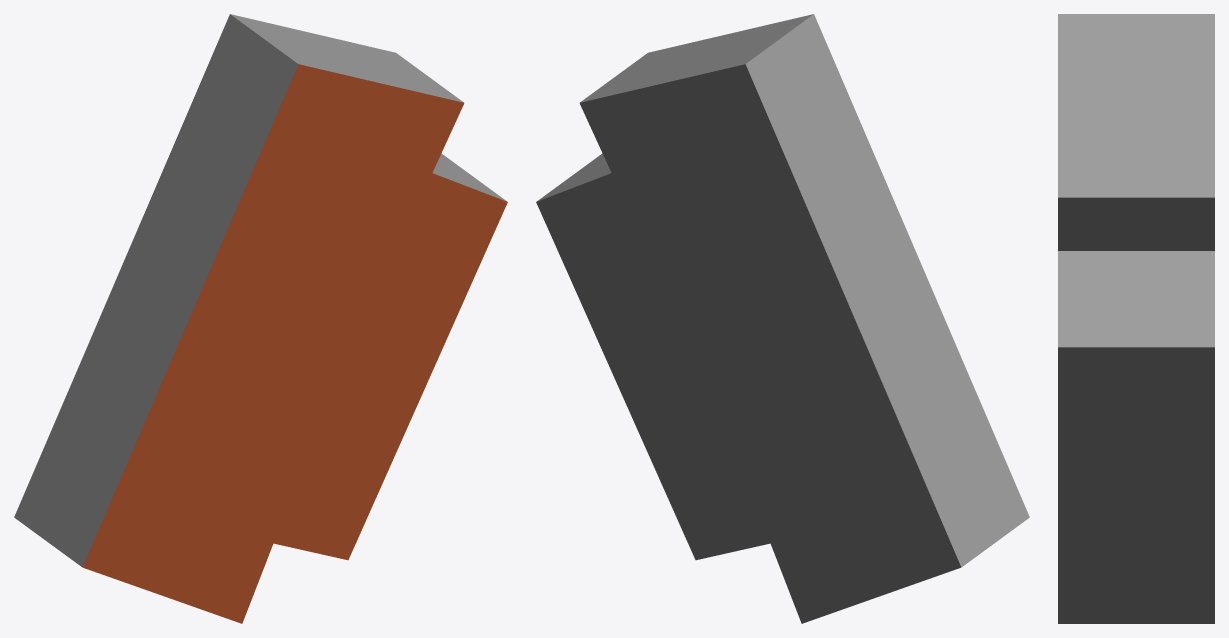
Rendered from construction_5361_assumed_A_Casa_h6m.obj.
The picture shows the model from 3 angles, left to right: view 1: azimuth 30°, elevation 25°; view 2: azimuth 150°, elevation 25°; view 3: azimuth 270°, elevation 25°; orthographic projection. The views are drawn at different scales.
Parts seen in each view (by area): view 1: construction_5361_assumed_A_Casa; view 2: construction_5361_assumed_A_Casa; view 3: construction_5361_assumed_A_Casa.
Part boxes in pixels (<box>): construction_5361_assumed_A_Casa: <box>14,14,507,623</box>; construction_5361_assumed_A_Casa: <box>536,14,1029,623</box>; construction_5361_assumed_A_Casa: <box>1058,14,1214,623</box>.
Size of the model in its own units: 21.52 by 26.4 by 6.
